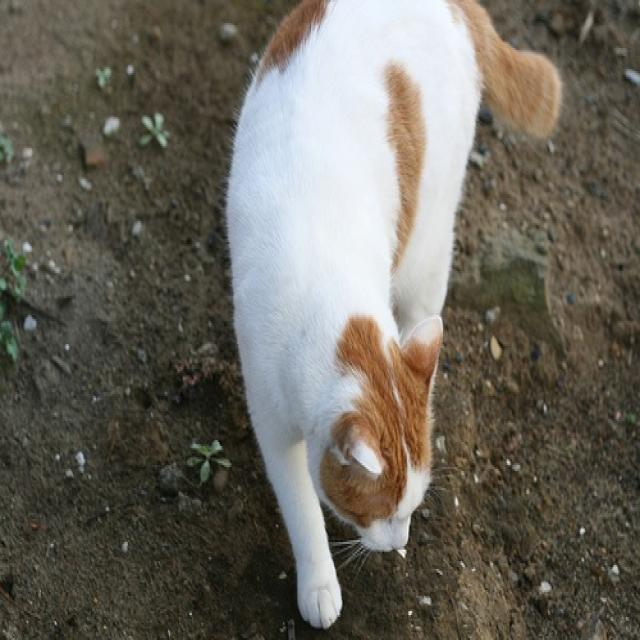cat: (225, 0, 561, 630)
